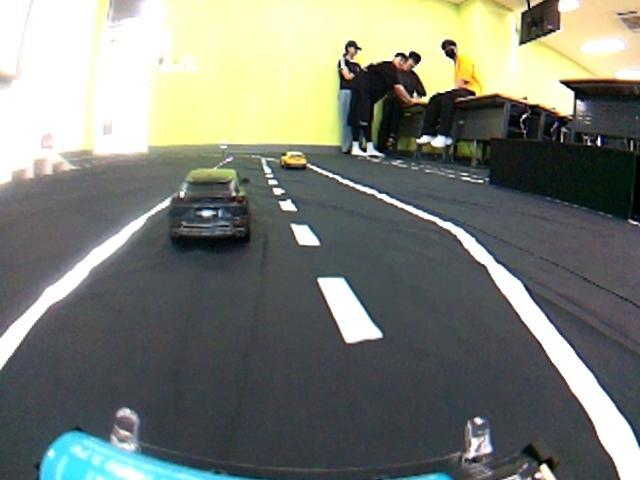car: (167, 166, 254, 241), (280, 149, 307, 168)
straight: (5, 197, 636, 473)
